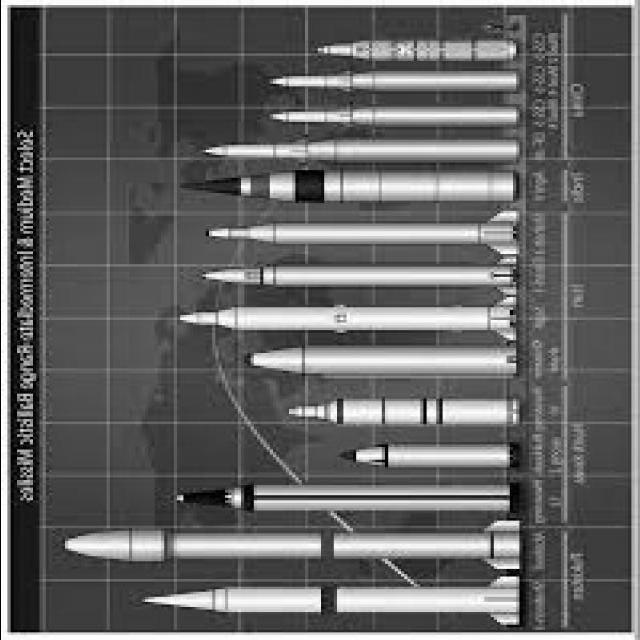missile: (55, 515, 521, 576), (178, 168, 523, 208), (171, 303, 526, 338), (256, 67, 528, 93)
